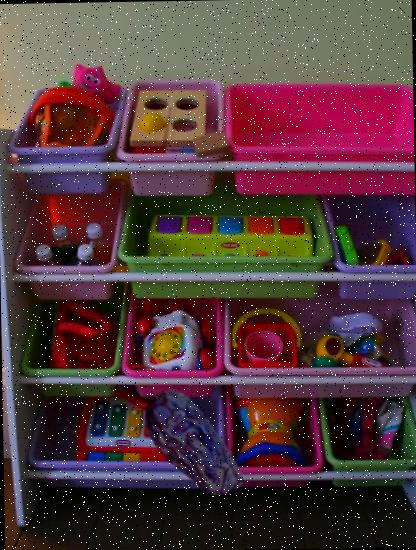Dates: (130, 384, 256, 509)
